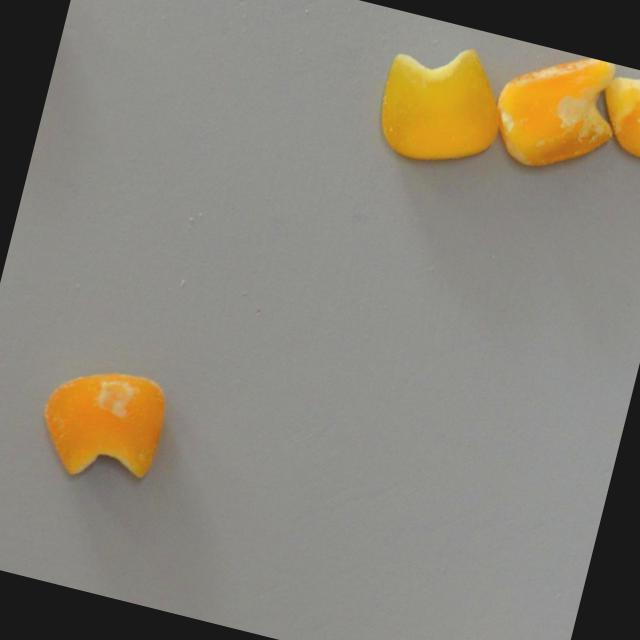no_canjicado: (364, 23, 522, 182)
pelicula: (21, 343, 185, 503), (480, 38, 632, 188), (588, 62, 640, 161)
